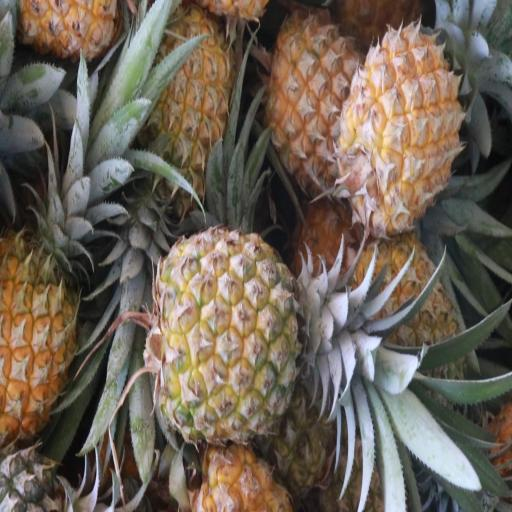------------------------------: (152, 230, 304, 437), (344, 238, 459, 408), (266, 13, 360, 193)
Pineapple - v8 v1: (342, 23, 461, 224), (144, 7, 228, 207), (0, 233, 80, 436)
